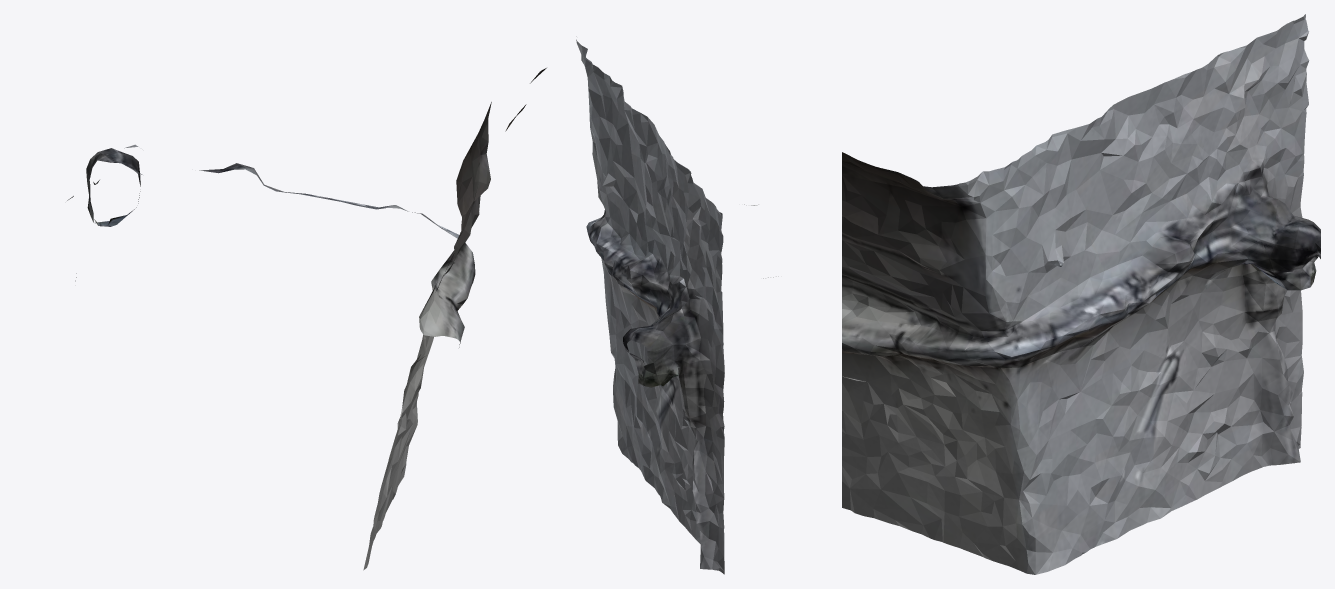
3 renders of one model, left to right at view 1: azimuth 30°, elevation 25°; view 2: azimuth 150°, elevation 25°; view 3: azimuth 270°, elevation 25°, orthographic. The views are drawn at different scales.
Bounding box in the file's own units: 0.717 × 0.8374 × 0.8373.
Materials: 3 (3 with a texture image).
